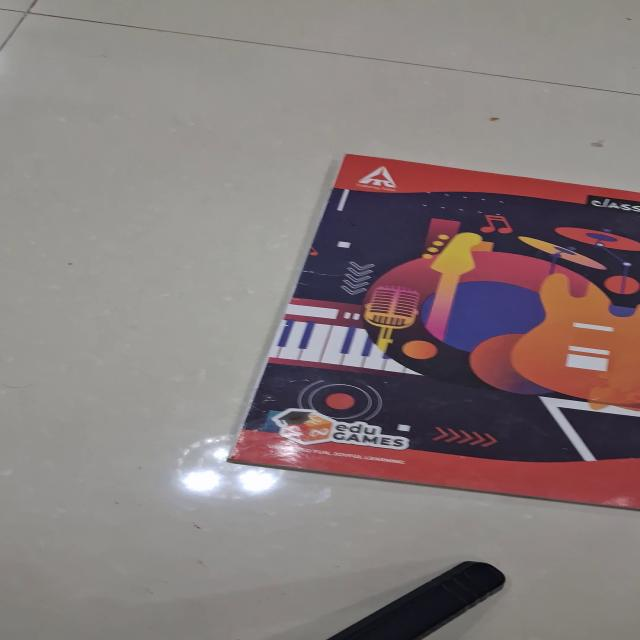paper: (226, 153, 639, 510)
